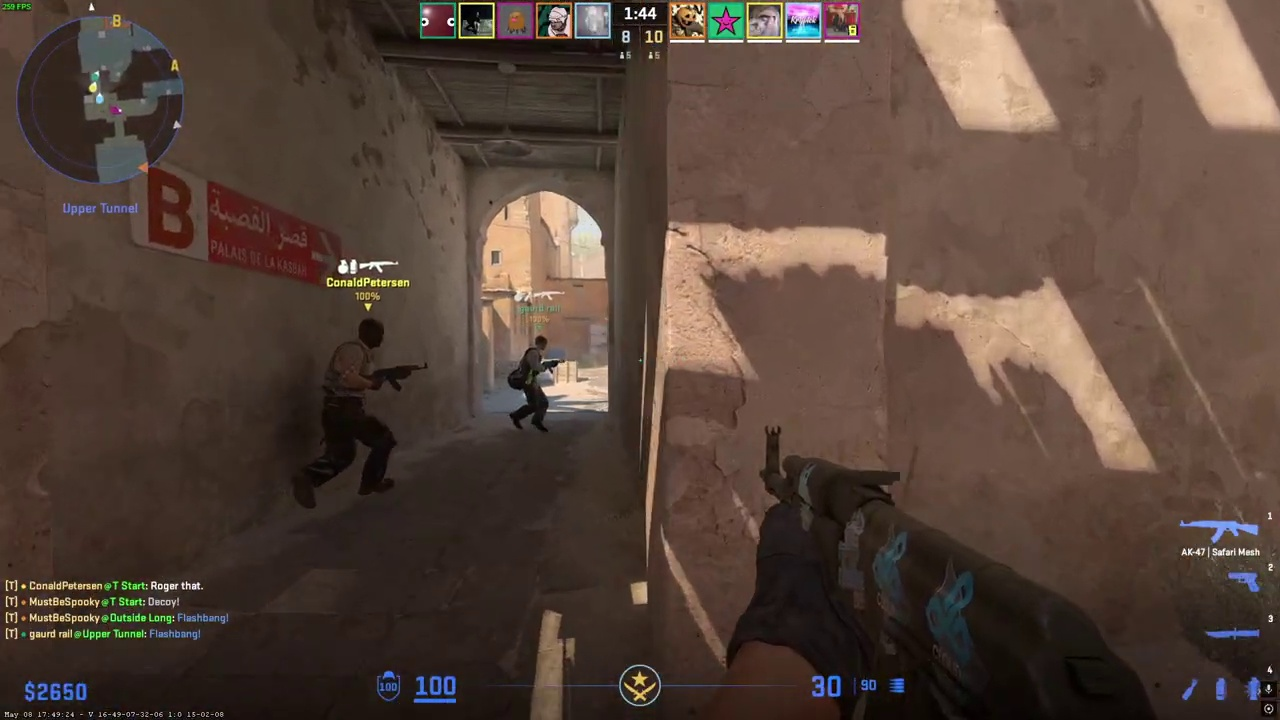Terrorist: (297, 316, 401, 509), (511, 335, 554, 433)
